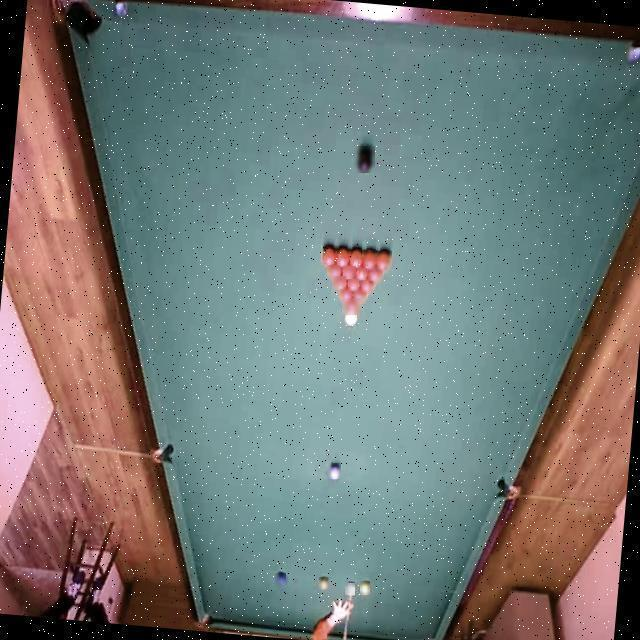Ball: (354, 146, 375, 173), (342, 298, 362, 315), (377, 251, 392, 273), (335, 247, 350, 268), (362, 250, 377, 269), (368, 266, 383, 284), (322, 248, 336, 267), (349, 247, 362, 267), (339, 287, 354, 303), (328, 463, 341, 479), (354, 287, 366, 304), (344, 311, 357, 326), (327, 265, 340, 280), (360, 281, 373, 295), (333, 276, 346, 290), (356, 266, 368, 281), (343, 266, 356, 279), (275, 573, 286, 587), (360, 581, 370, 595), (319, 577, 330, 589), (348, 279, 359, 290), (345, 583, 355, 595)
